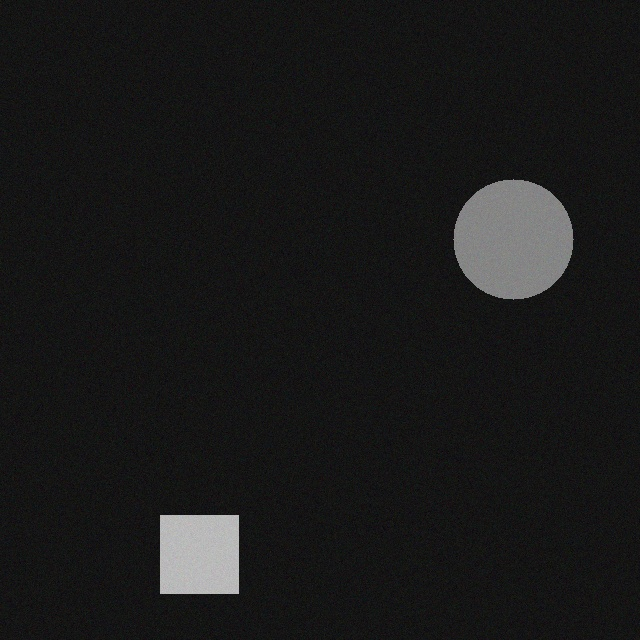circle: (450, 171, 570, 291)
square: (157, 507, 235, 585)
